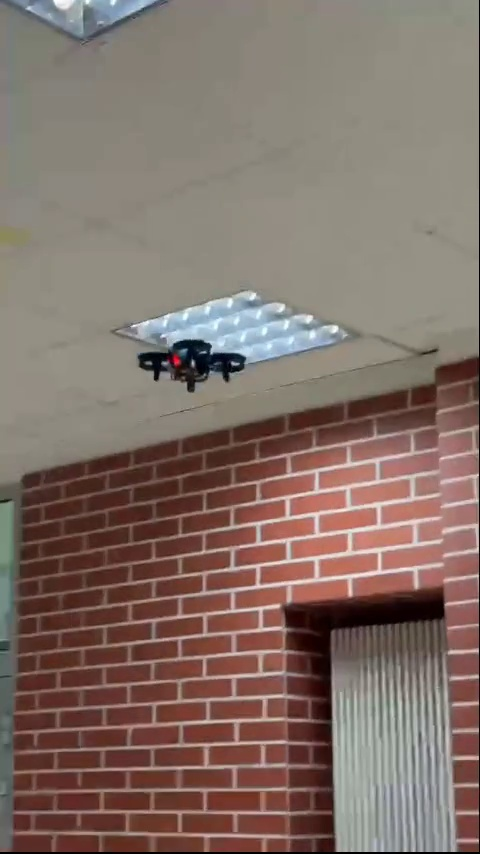drone: (135, 339, 249, 397)
